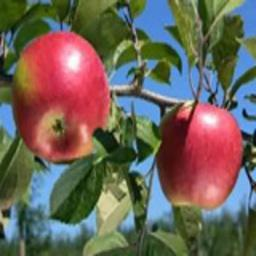apple: (11, 32, 110, 163), (155, 104, 243, 208)
